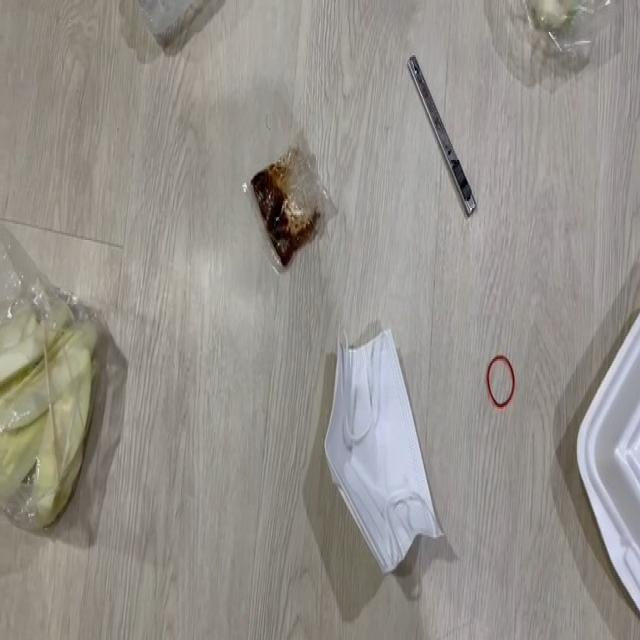Anorganik: (561, 218, 640, 630), (393, 52, 491, 216), (122, 0, 223, 69), (482, 353, 522, 413)
B3: (320, 321, 446, 579), (0, 290, 98, 539), (242, 120, 343, 284)
